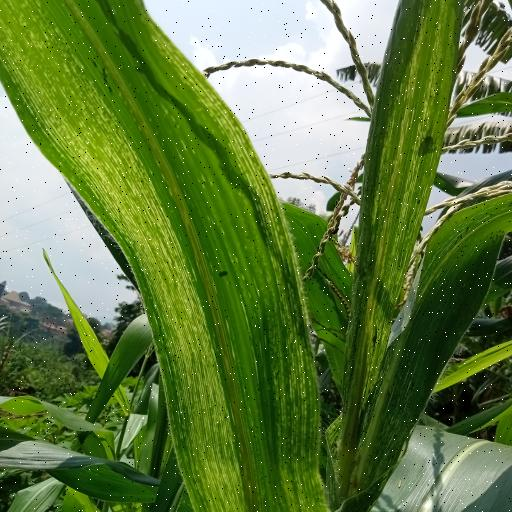Corn_Streak: (4, 0, 335, 512), (342, 0, 512, 494)
